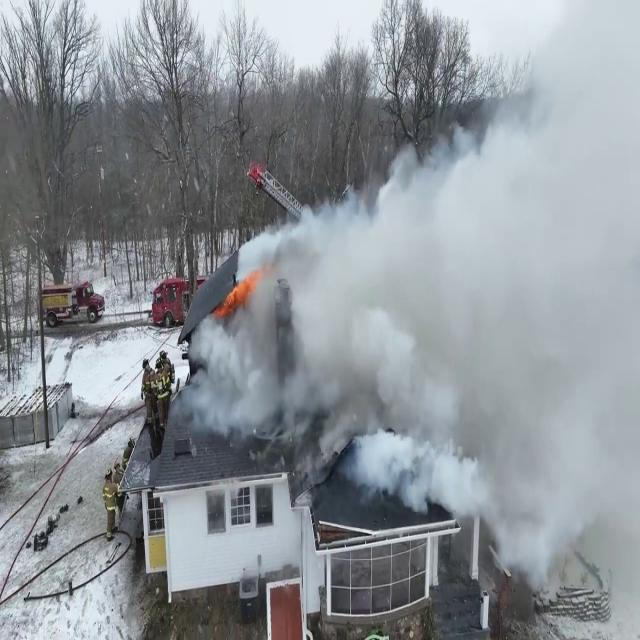Smoke: (194, 65, 639, 532)
